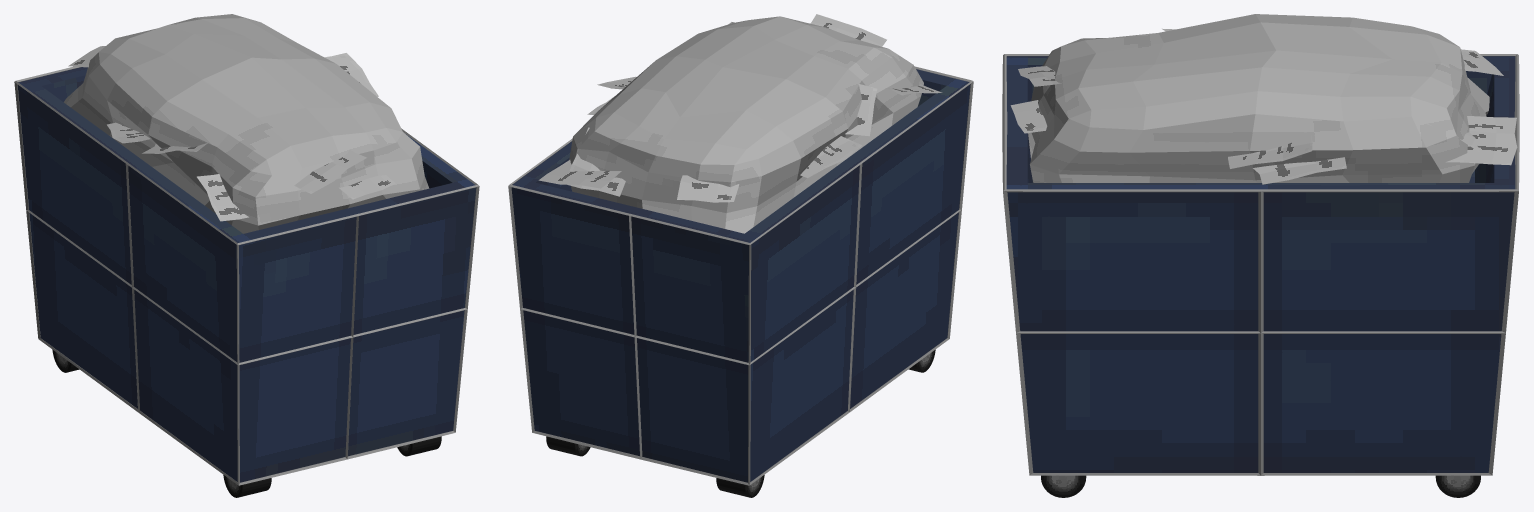
Rendered from cart_2.fbx.
The picture shows the model from 3 angles, left to right: view 1: azimuth 30°, elevation 25°; view 2: azimuth 150°, elevation 25°; view 3: azimuth 270°, elevation 25°; orthographic projection. The views are drawn at different scales.
Parts seen in each view (by area): view 1: cart, cart paper; view 2: cart, cart paper; view 3: cart, cart paper.
Boxes of the visible parts, x1,y1,x2,y2 form: cart: (14, 66, 479, 497); cart paper: (64, 14, 429, 233); cart: (508, 22, 973, 497); cart paper: (538, 14, 942, 233); cart: (1002, 54, 1519, 497); cart paper: (1010, 14, 1517, 184).
Size of the model in its own units: 123 by 163 by 192.
Materials: 5 (4 with a texture image).
